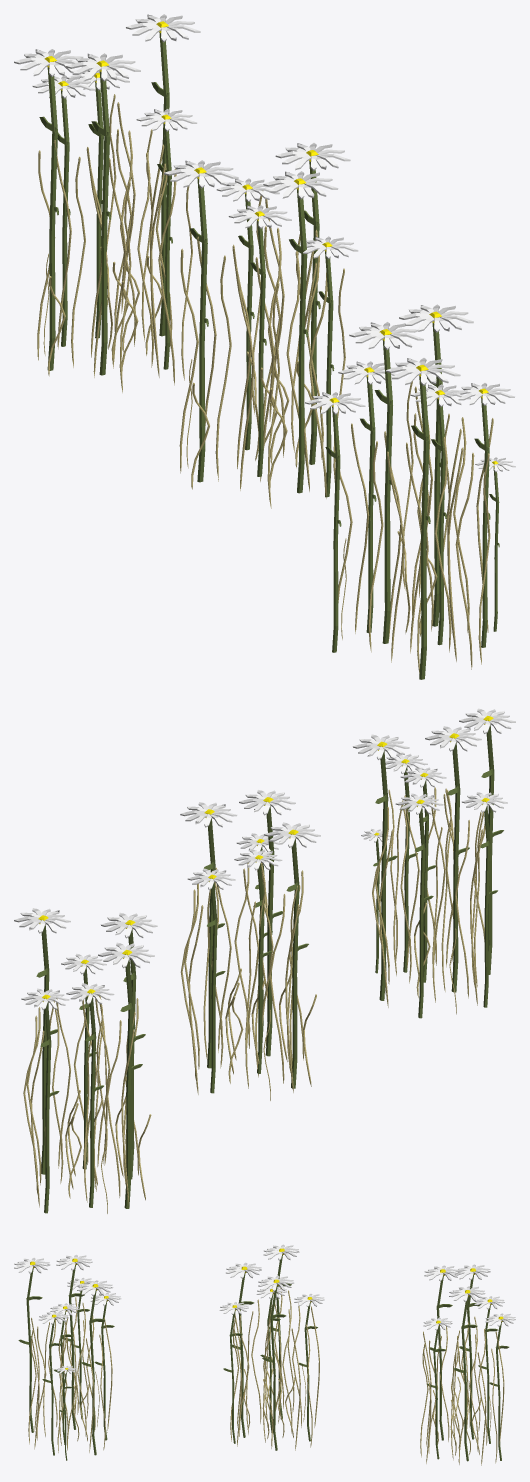
Rendered from margaritas_maleza.fbx.
3 renders of one model, top to bottom at view 1: azimuth 30°, elevation 25°; view 2: azimuth 150°, elevation 25°; view 3: azimuth 270°, elevation 25°, orthographic. The views are drawn at different scales.
Visible parts, largest first — view 1: Cylinder.063, Cylinder.055, Cylinder.051, Cylinder.049, Cylinder.061, Cylinder.067, Cylinder.056, Cylinder.050, Cylinder.064, Cylinder.060, Cylinder.053, Cylinder.057 (+8 smaller); view 2: Cylinder.061, Cylinder.049, Cylinder.067, Cylinder.050, Cylinder.055, Cylinder.051, Cylinder.064, Cylinder.056, Cylinder.054, Cylinder.062, Cylinder.066, Cylinder.068 (+8 smaller); view 3: Cylinder.056, Cylinder.064, Cylinder.051, Cylinder.050, Cylinder.063, Cylinder.049, Cylinder.055, Cylinder.067, Cylinder.061, Cylinder.068, Cylinder.066, Cylinder.057 (+8 smaller).
Boxes of the visible parts, x1,y1,x2,y2 form: Cylinder.063: (66,53,140,375); Cylinder.055: (263,171,338,493); Cylinder.051: (385,358,460,679); Cylinder.049: (349,322,423,643); Cylinder.061: (164,160,238,482); Cylinder.067: (14,49,84,370); Cylinder.056: (275,143,350,464); Cylinder.050: (399,304,473,626); Cylinder.064: (126,14,200,336); Cylinder.060: (228,205,291,476); Cylinder.053: (305,392,365,652); Cylinder.057: (453,383,514,647); Cylinder.061: (264,822,320,1088); Cylinder.049: (425,726,481,992); Cylinder.067: (98,942,154,1208); Cylinder.050: (353,734,409,1000); Cylinder.055: (239,790,295,1056); Cylinder.051: (459,708,515,974); Cylinder.064: (14,908,70,1174); Cylinder.056: (180,802,237,1068); Cylinder.054: (395,793,443,1018); Cylinder.062: (187,868,235,1093); Cylinder.066: (66,983,114,1207); Cylinder.068: (21,988,69,1213); Cylinder.056: (258,1275,294,1450); Cylinder.064: (449,1286,485,1461); Cylinder.051: (14,1257,50,1432); Cylinder.050: (77,1280,113,1455); Cylinder.063: (424,1265,460,1440); Cylinder.049: (56,1254,92,1429); Cylinder.055: (226,1262,261,1437); Cylinder.067: (454,1264,490,1439); Cylinder.061: (263,1244,299,1419); Cylinder.068: (485,1313,515,1460); Cylinder.066: (474,1296,504,1443); Cylinder.057: (39,1311,68,1455).
Size of the model in its own units: 69.59 by 98.02 by 236.
